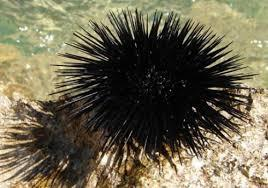urchin: (56, 10, 252, 160)
